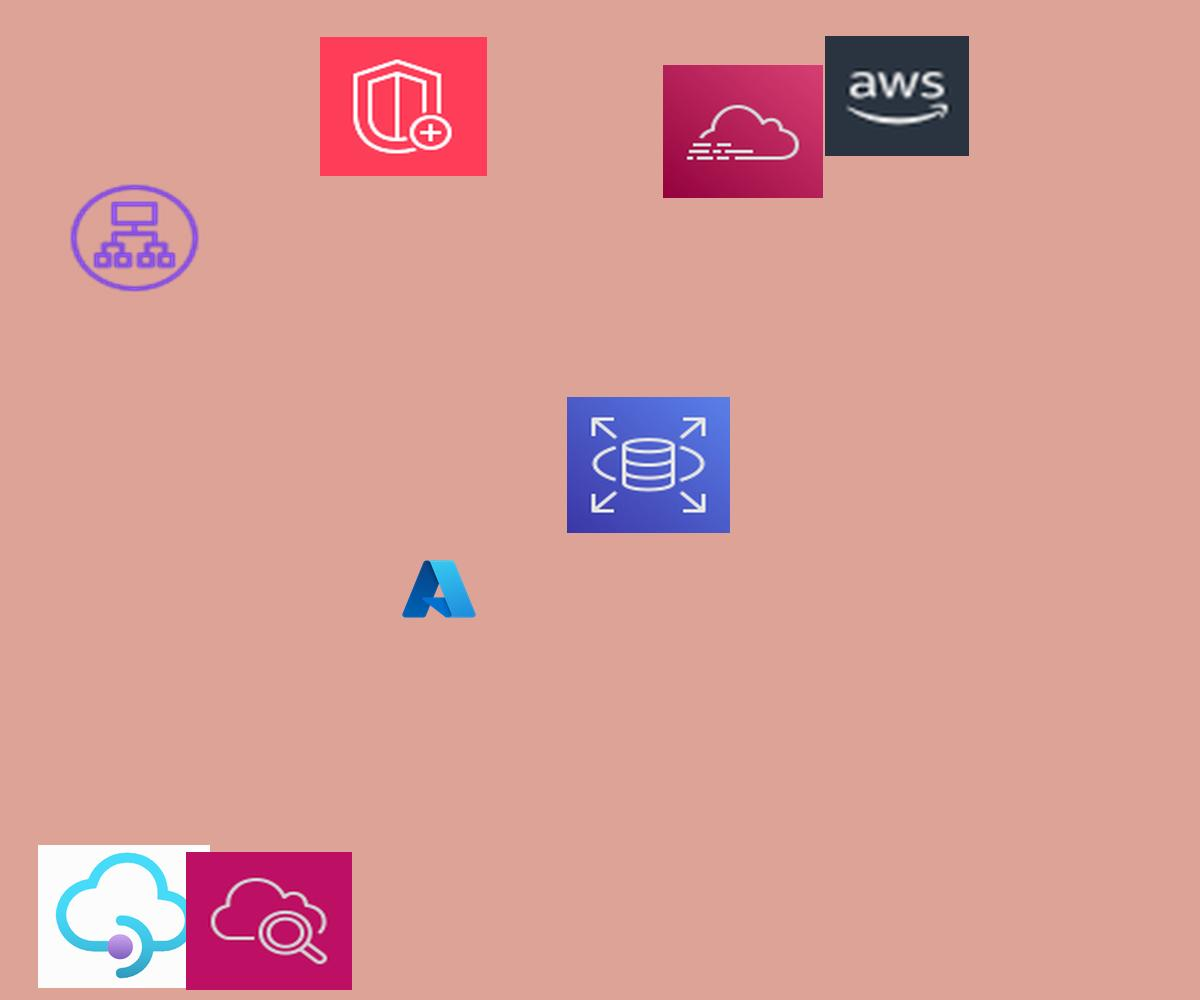AWS-Cloud-logo: (825, 36, 969, 156)
AWS-CloudTrail: (663, 65, 823, 198)
AWS-CloudWatch: (186, 852, 352, 990)
AWS-RDS: (567, 397, 730, 533)
AWS-Res_Elastic-Load-Balancing_Application-Load-Balancer: (65, 180, 204, 296)
AWS-Shield: (320, 37, 487, 176)
Azure_api_gateway: (38, 845, 210, 988)
Azure_services: (399, 556, 479, 622)
